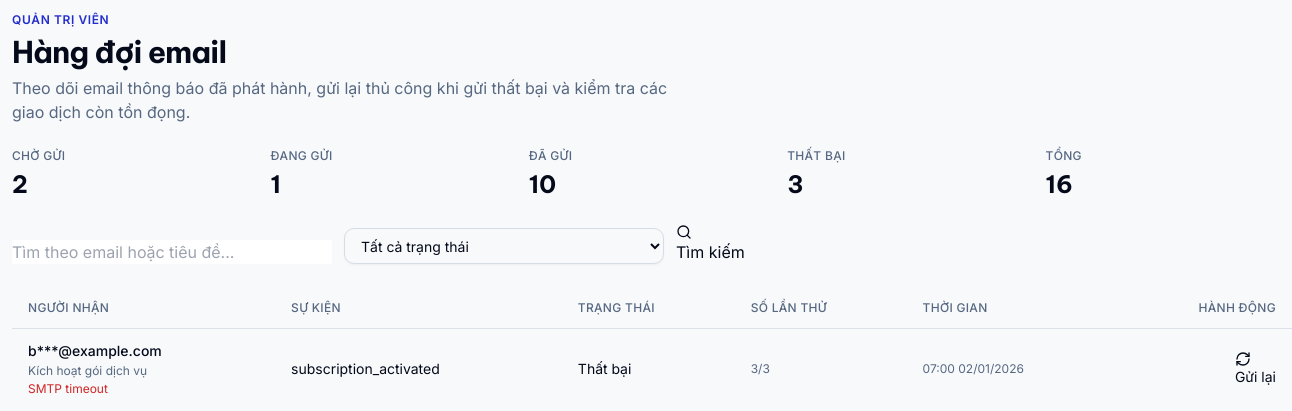
Test: AdminEmailsPage realtime › reflects PENDING locally after a manual retry
The image size is (1292, 411).
Check: the text "b***@example.com" is shown, box [28, 342, 162, 359]
Click the button with aria-label "gửi lại email msg-1".
click(1255, 369)  # box [1235, 351, 1276, 387]
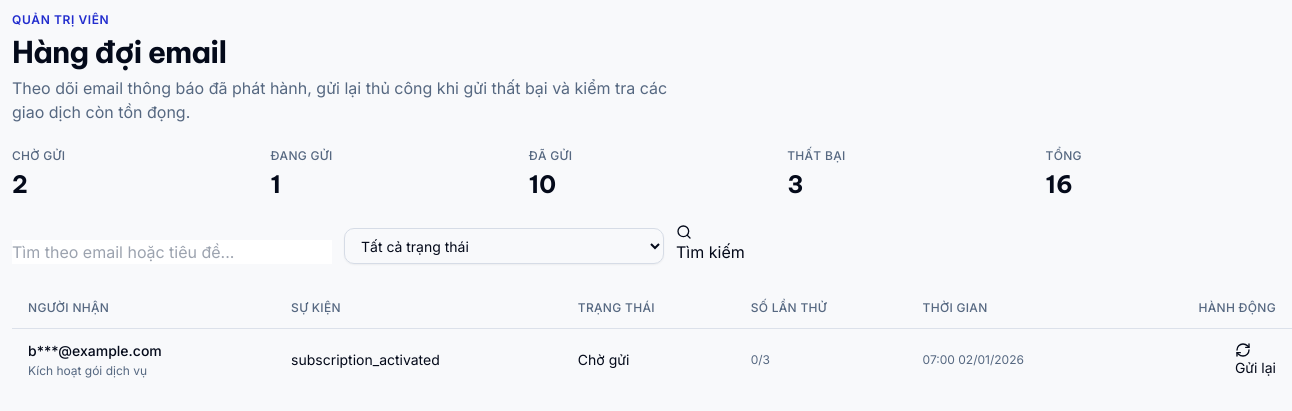
Check: the text "Chờ gửi" in the row of "b***@example.com" is shown, box [578, 351, 629, 368]
